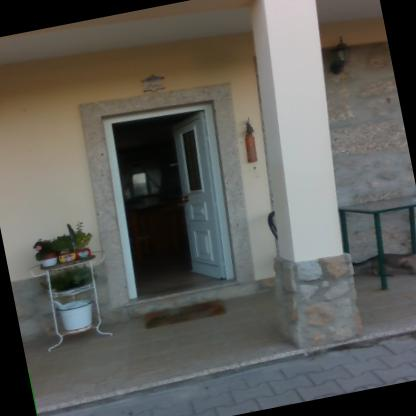open: (88, 88, 258, 320)
